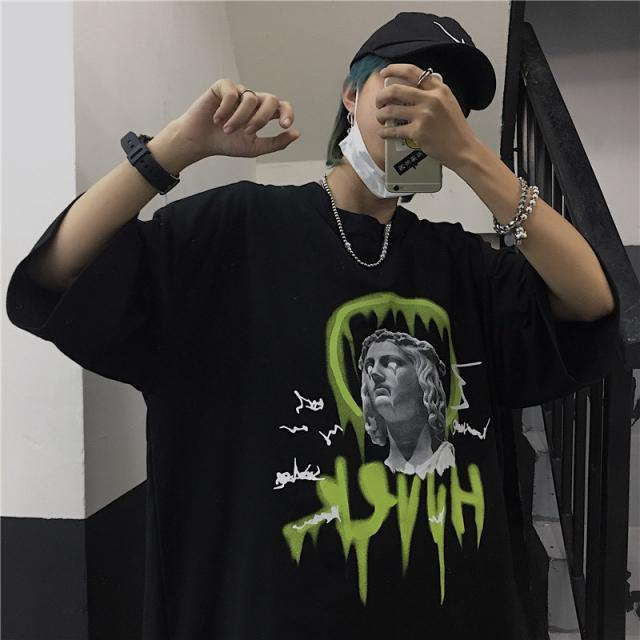Shirt: (8, 178, 630, 640)
